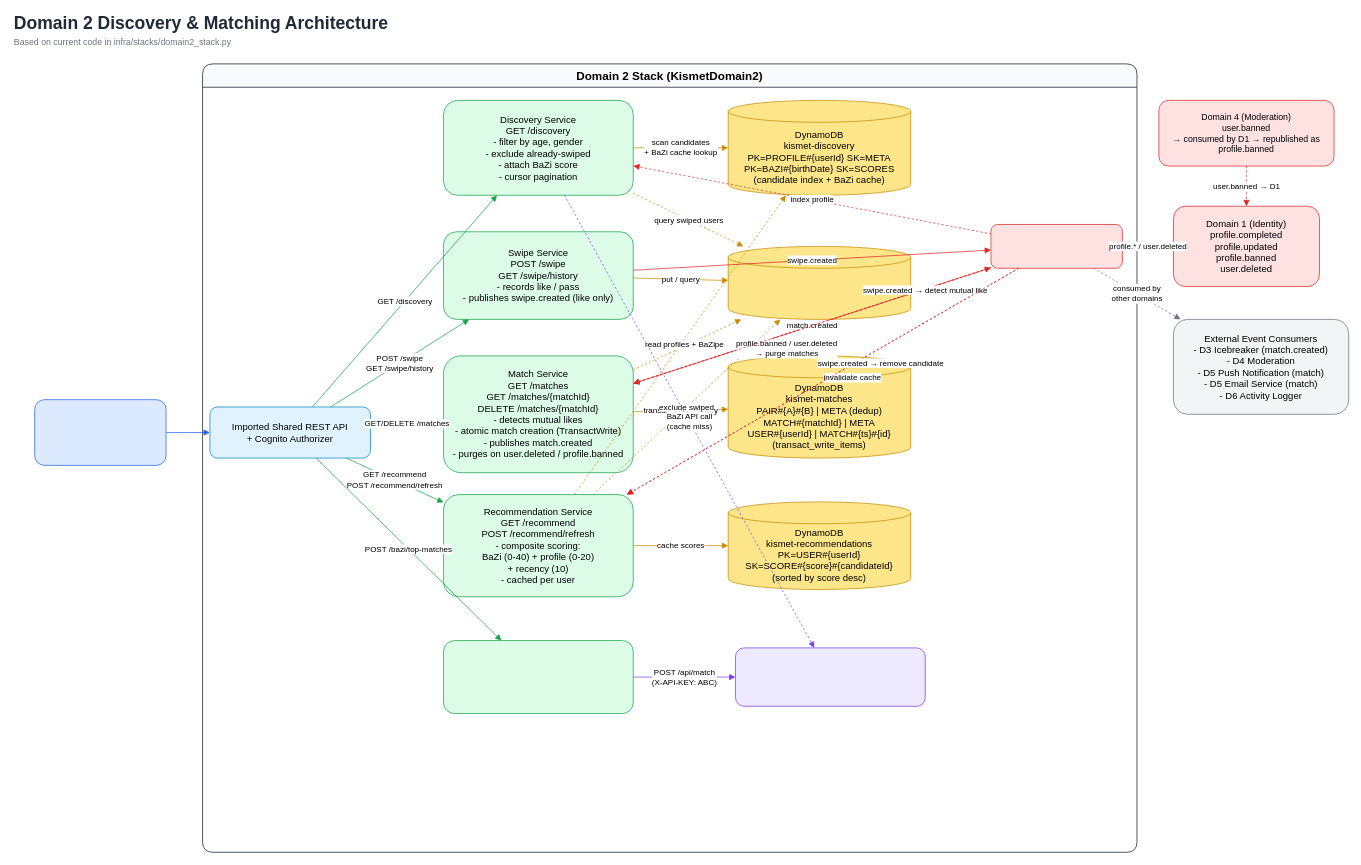
This 1361x865 diagram has some shape labels left out. The shapes that lost their labels are listed below. From the top down, each one's centre as x and y in pixels, then its label:
At (1056,246): "EventBridge kismet-events".
At (819,282): "DynamoDB kismet-swipes PK=userId SK=targetUserId action: like | pass".
At (100,432): "Clients - Web app (Next.js) - Authenticated users (JWT)".
At (538,677): "BaZi Service POST /bazi/top-matches - stateless proxy - calls external API".
At (830,676): "External BaZi API match-date-nu.vercel.app 八字 compatibility scoring".
